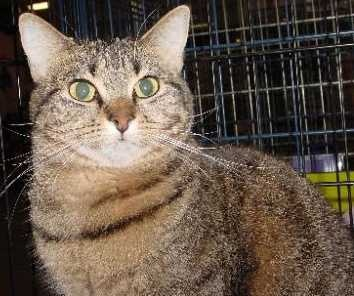Cat: (18, 5, 192, 295)
